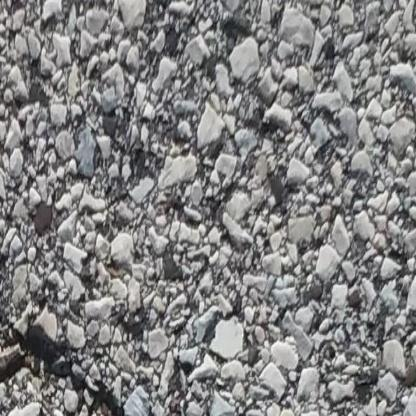Cracks: (0, 341, 165, 416)
